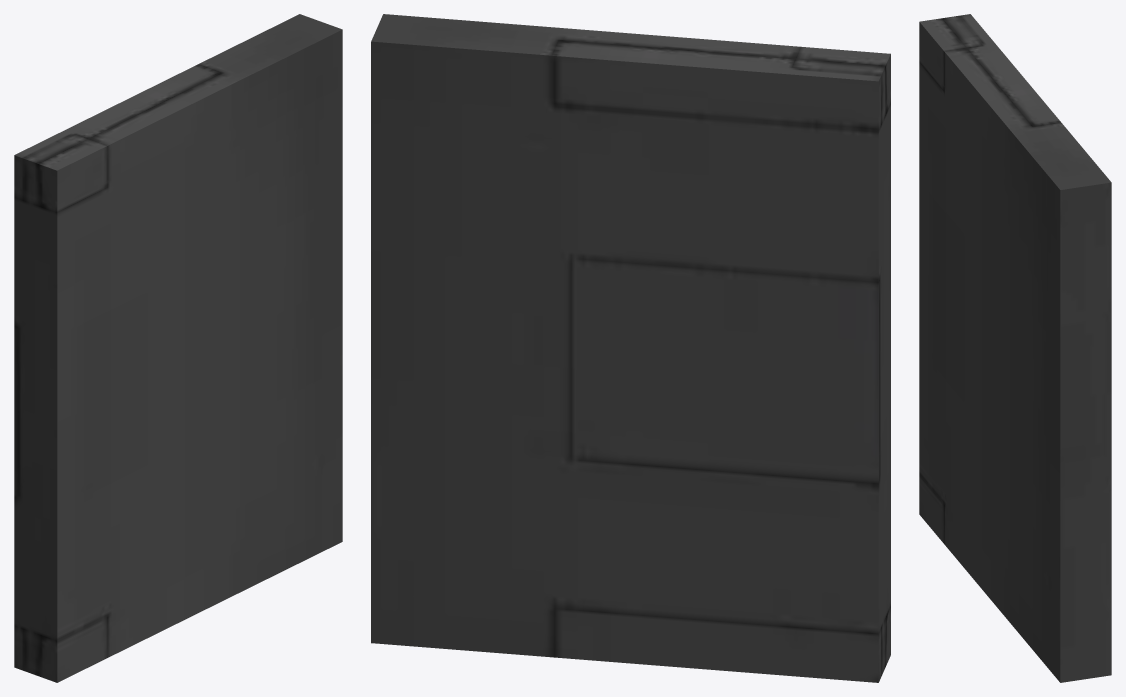
File: backrest__back_hinge_plate.glb
3 renders of one model, left to right at view 1: azimuth 30°, elevation 25°; view 2: azimuth 150°, elevation 25°; view 3: azimuth 270°, elevation 25°, orthographic. The views are drawn at different scales.
Parts seen in each view (by area): view 1: world; view 2: world; view 3: world.
Part boxes in pixels (x1=…): world: x1=14, y1=14, x2=342, y2=682; world: x1=371, y1=14, x2=890, y2=682; world: x1=919, y1=14, x2=1111, y2=682.
Size of the model in its own units: 0.138 by 0.18 by 0.0637.
1 material, 1 textured.
